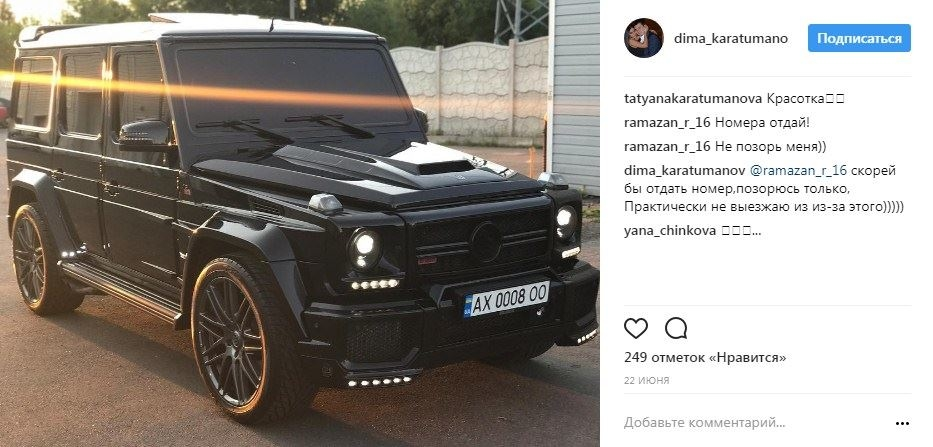car: (3, 8, 594, 428)
plate: (463, 279, 552, 316)
